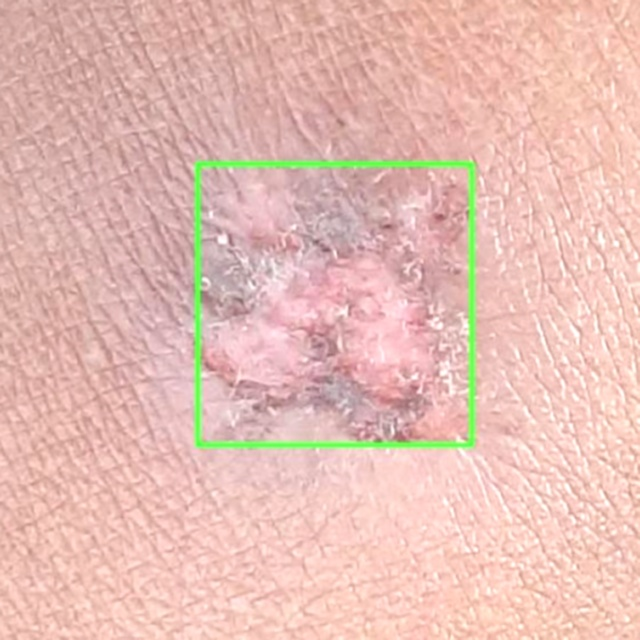Contact Dermatitis: (197, 164, 471, 445)
